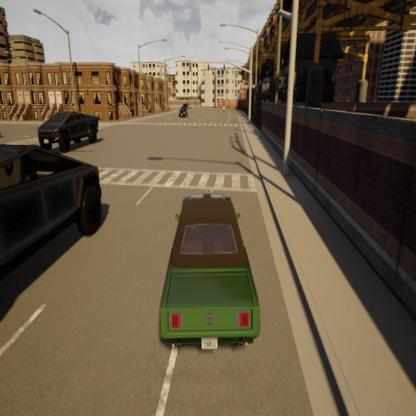Cars: (149, 184, 270, 365), (0, 129, 108, 300), (39, 106, 102, 153), (178, 104, 189, 121)
